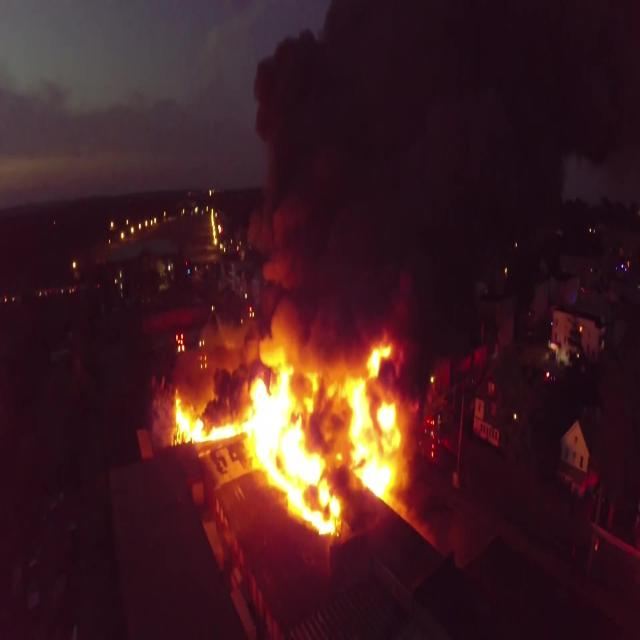Fire: (168, 326, 407, 543)
Smoke: (185, 0, 638, 475)
